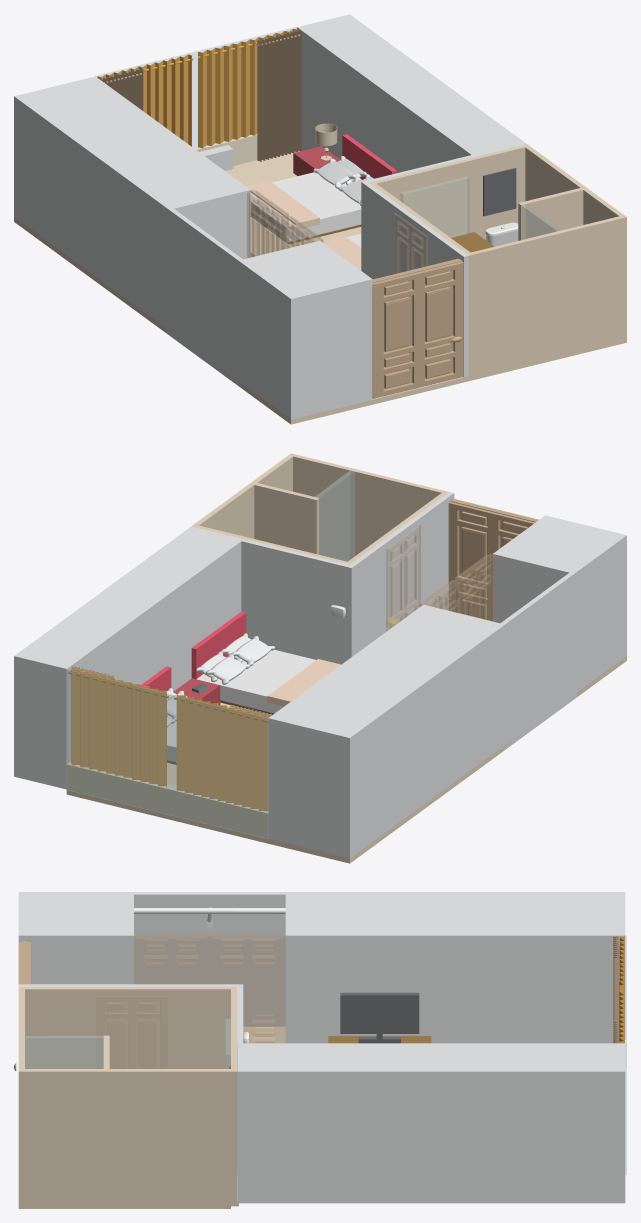
Rendered from room414.glb.
The picture shows the model from 3 angles, top to bottom: view 1: azimuth 30°, elevation 25°; view 2: azimuth 150°, elevation 25°; view 3: azimuth 270°, elevation 25°; orthographic projection. The views are drawn at different scales.
Parts seen in each view (by area): view 1: Node57, Node58, Node55, Node52, Node67, Node39, Node4, Node3, Node34, Node1, Node28, Node15 (+21 smaller); view 2: Node57, Node55, Node32, Node58, Node2, Node39, Node3, Node34, Node33, Node52, Node67, Node27 (+13 smaller); view 3: Node55, Node57, Node46, Node5, Node39, Node58, Node63, Node68, Node60, Node37, Node59, Node4 (+9 smaller).
Part boxes in pixels (x1,y1,x2,y2): Node57: [14, 76, 250, 328]; Node58: [238, 240, 372, 419]; Node55: [297, 14, 526, 172]; Node52: [471, 216, 622, 375]; Node67: [372, 258, 463, 398]; Node39: [166, 207, 245, 387]; Node4: [369, 144, 529, 240]; Node3: [364, 183, 468, 377]; Node34: [198, 28, 297, 148]; Node1: [14, 150, 574, 424]; Node28: [257, 30, 301, 161]; Node15: [250, 172, 361, 242]; Node57: [268, 604, 502, 858]; Node55: [14, 526, 243, 789]; Node32: [66, 669, 267, 838]; Node58: [492, 515, 626, 693]; Node2: [241, 539, 354, 664]; Node39: [498, 572, 576, 750]; Node3: [350, 492, 454, 654]; Node34: [68, 668, 169, 787]; Node33: [174, 693, 268, 812]; Node52: [293, 454, 444, 561]; Node67: [448, 499, 538, 620]; Node27: [66, 762, 268, 838]; Node55: [237, 1043, 625, 1203]; Node57: [285, 892, 625, 1043]; Node46: [18, 1069, 230, 1208]; Node5: [18, 987, 230, 1068]; Node39: [128, 892, 291, 1026]; Node58: [18, 892, 133, 984]; Node63: [210, 934, 285, 1043]; Node68: [97, 996, 167, 1068]; Node60: [134, 934, 209, 983]; Node37: [340, 992, 419, 1033]; Node59: [25, 1036, 103, 1068]; Node4: [231, 987, 236, 1204].
Size of the model in its own units: 70 by 25 by 101.
